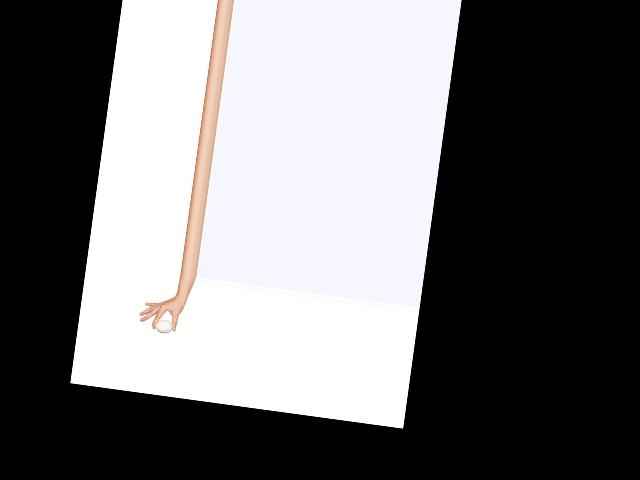egg: (154, 319, 173, 334)
